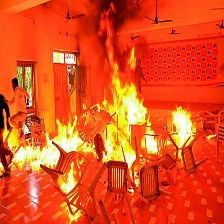fire: (9, 67, 196, 195)
smoke: (84, 2, 152, 48)
